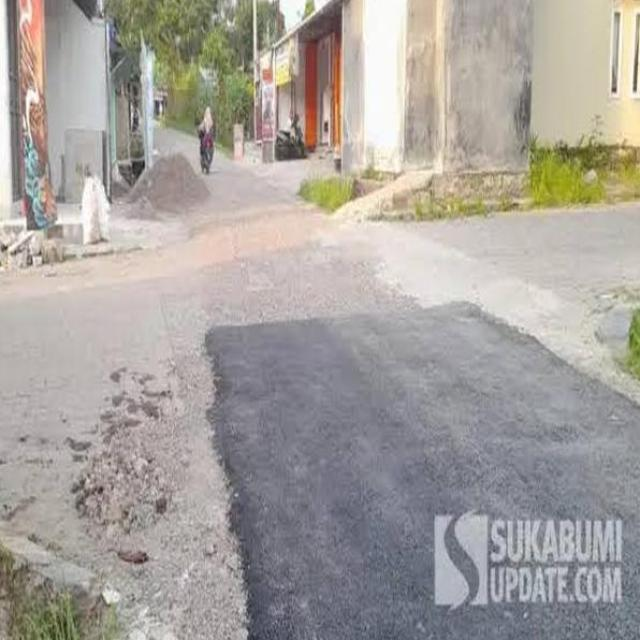Sambungan: (206, 309, 640, 640)
